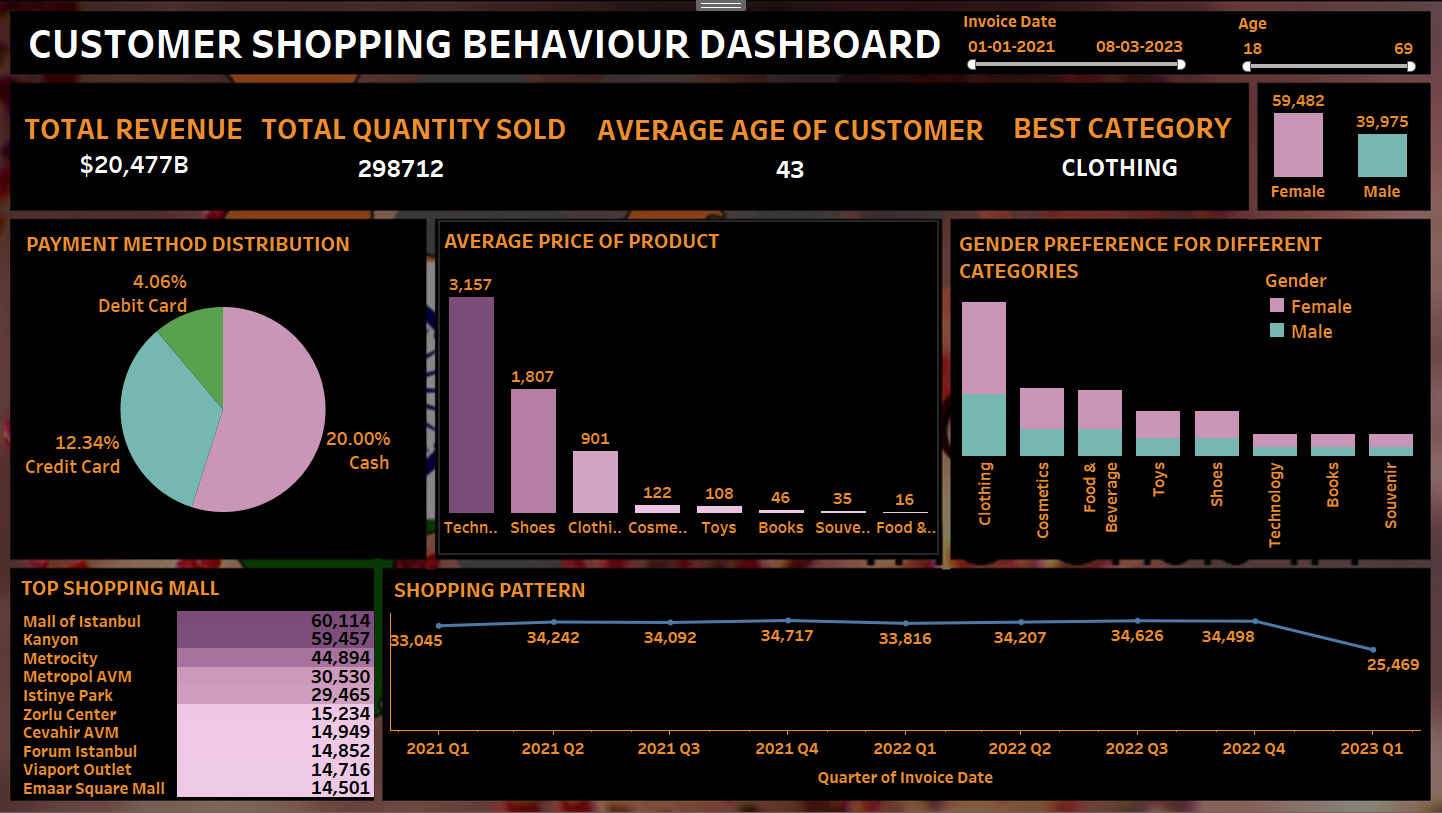

The page's visual inventory and layout, read from the dashboard file:
{"tool":"tableau","page":{"name":"Dashboard 1","canvas":[1000,1000],"units":"permille","ordinal":0},"visuals":[{"type":"image","param":"Image/Presentation11.jpg","box":[0.6,3.7,994.4,992.7]},{"type":"filter","title":"SHOPPING PATTERN","param":"[federated.0nfusnq16q1fwa183ilrk1bmui4q].[none:invoice_date:qk]","box":[649.1,15.9,141.7,84.4]},{"type":"filter","title":"CUSTOMER DISTRIBUTION","param":"[federated.0nfusnq16q1fwa183ilrk1bmui4q].[none:age:qk]","box":[820.5,18.3,113.2,77]},{"type":"text","box":[63.7,19.6,585.4,70.9]},{"type":"text","box":[61.3,110,142.3,141.8]},{"type":"text","box":[677.6,110,144.8,144.2]},{"type":"worksheet","title":"CUSTOMER DISTRIBUTION","mark":"Automatic","rows":["customer_id"],"cols":["gender"],"box":[831.7,111.2,104.6,140.6]},{"type":"text","box":[418.3,114.9,257.4,139.4]},{"type":"text","box":[209.2,119.8,208.5,127.1]},{"type":"worksheet","title":"AVERAGE PRICE OF PRODUCT","mark":"Bar","rows":["price"],"cols":["category"],"box":[323,275.1,310,404.7]},{"type":"worksheet","title":"PAYMENT METHOD DISTRIBUTION","mark":"Pie","box":[62.5,278.7,250.6,399.8]},{"type":"worksheet","title":"GENDER PREFERENCE FOR DIFFERENT CATEGORIES ","mark":"Automatic","rows":["quantity"],"cols":["category"],"box":[644.2,278.7,289.6,399.8]},{"type":"legend","title":"GENDER PREFERENCE FOR DIFFERENT CATEGORIES ","param":"[federated.0nfusnq16q1fwa183ilrk1bmui4q].[none:gender:nk]","box":[837.2,330.1,96.5,92.9]},{"type":"worksheet","title":"TOP SHOPPING MALL","mark":"Square","rows":["shopping_mall"],"box":[59.4,699.3,222.8,278.7]},{"type":"worksheet","title":"SHOPPING PATTERN","mark":"Line","rows":["quantity"],"cols":["invoice_date"],"box":[292.1,701.7,643,273.8]}]}

Visuals, with their boxes on the dashboard's canvas, which has no fixed pixel size, in thousandths of its width and height (x1, y1, x2, y2). These are canvas units, not pixel positions in the 1442x813 screenshot, which may show the page scaled, cropped or inside an application window:
image: (left=1, top=4, right=995, bottom=996)
"SHOPPING PATTERN" filter: (left=649, top=16, right=791, bottom=100)
"CUSTOMER DISTRIBUTION" filter: (left=820, top=18, right=934, bottom=95)
text: (left=64, top=20, right=649, bottom=90)
text: (left=61, top=110, right=204, bottom=252)
text: (left=678, top=110, right=822, bottom=254)
"CUSTOMER DISTRIBUTION" worksheet: (left=832, top=111, right=936, bottom=252)
text: (left=418, top=115, right=676, bottom=254)
text: (left=209, top=120, right=418, bottom=247)
"AVERAGE PRICE OF PRODUCT" worksheet (Bar marks): (left=323, top=275, right=633, bottom=680)
"PAYMENT METHOD DISTRIBUTION" worksheet (Pie marks): (left=62, top=279, right=313, bottom=678)
"GENDER PREFERENCE FOR DIFFERENT CATEGORIES " worksheet: (left=644, top=279, right=934, bottom=678)
"GENDER PREFERENCE FOR DIFFERENT CATEGORIES " legend: (left=837, top=330, right=934, bottom=423)
"TOP SHOPPING MALL" worksheet (Square marks): (left=59, top=699, right=282, bottom=978)
"SHOPPING PATTERN" worksheet (Line marks): (left=292, top=702, right=935, bottom=976)
